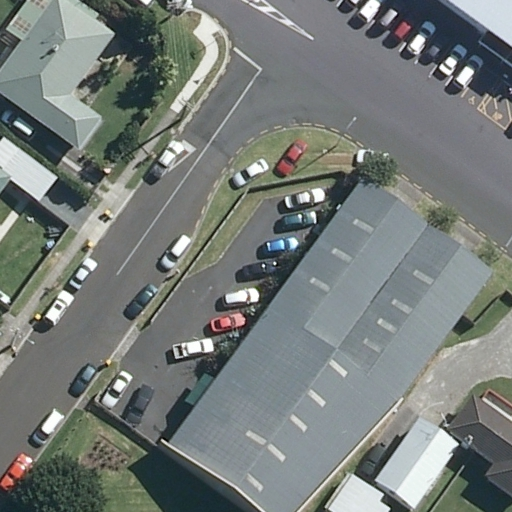DT: (175, 94, 197, 125)
